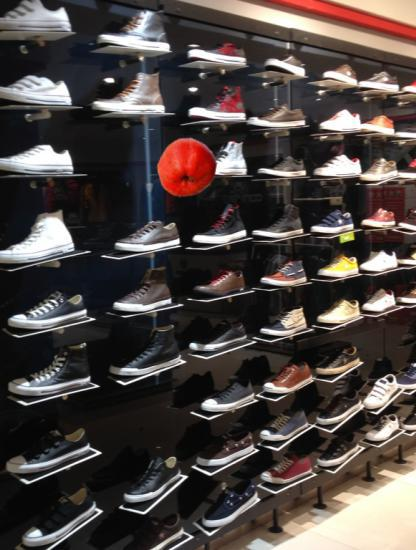Pear: (156, 137, 218, 199)
